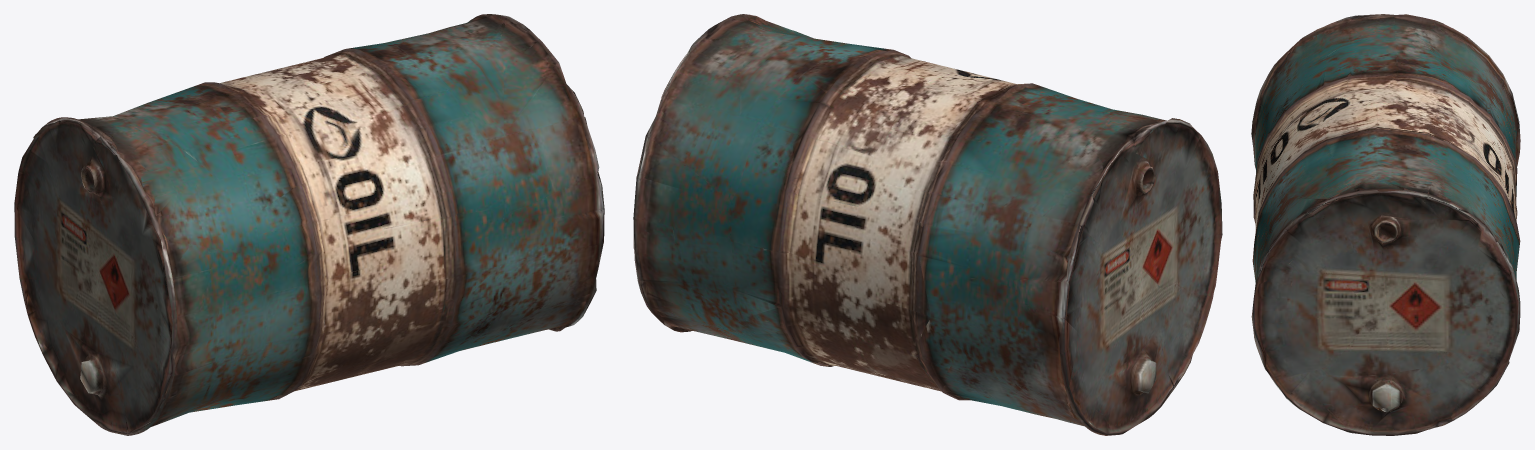
File: oil_drum.glb
3 views of the same model, side by side, from view 1: azimuth 30°, elevation 25°; view 2: azimuth 150°, elevation 25°; view 3: azimuth 270°, elevation 25° (orthographic). The views are drawn at different scales.
Parts seen in each view (by area): view 1: oil_drum; view 2: oil_drum; view 3: oil_drum.
Part boxes in pixels (x1=…): oil_drum: x1=14, y1=14, x2=604, y2=435; oil_drum: x1=633, y1=14, x2=1222, y2=435; oil_drum: x1=1251, y1=14, x2=1520, y2=435.
Bounding box in the file's own units: 190 × 120 × 119.
Materials: 1 (1 with a texture image).
